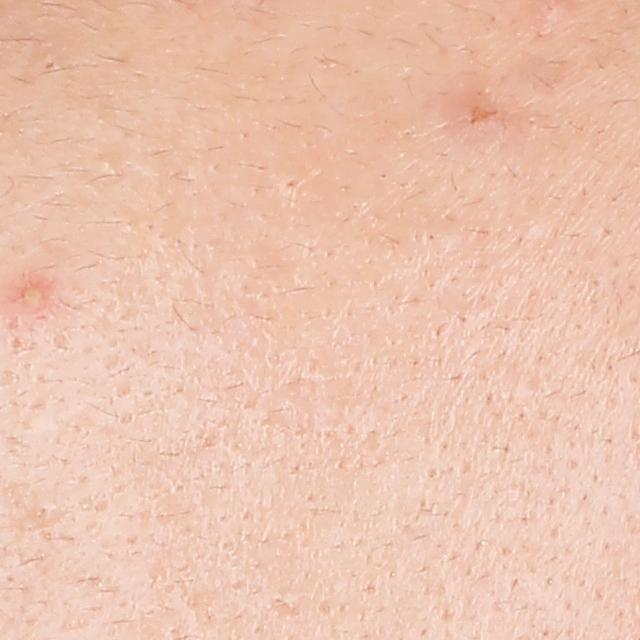comedo: (29, 496, 57, 524)
pustule: (13, 274, 50, 313)
